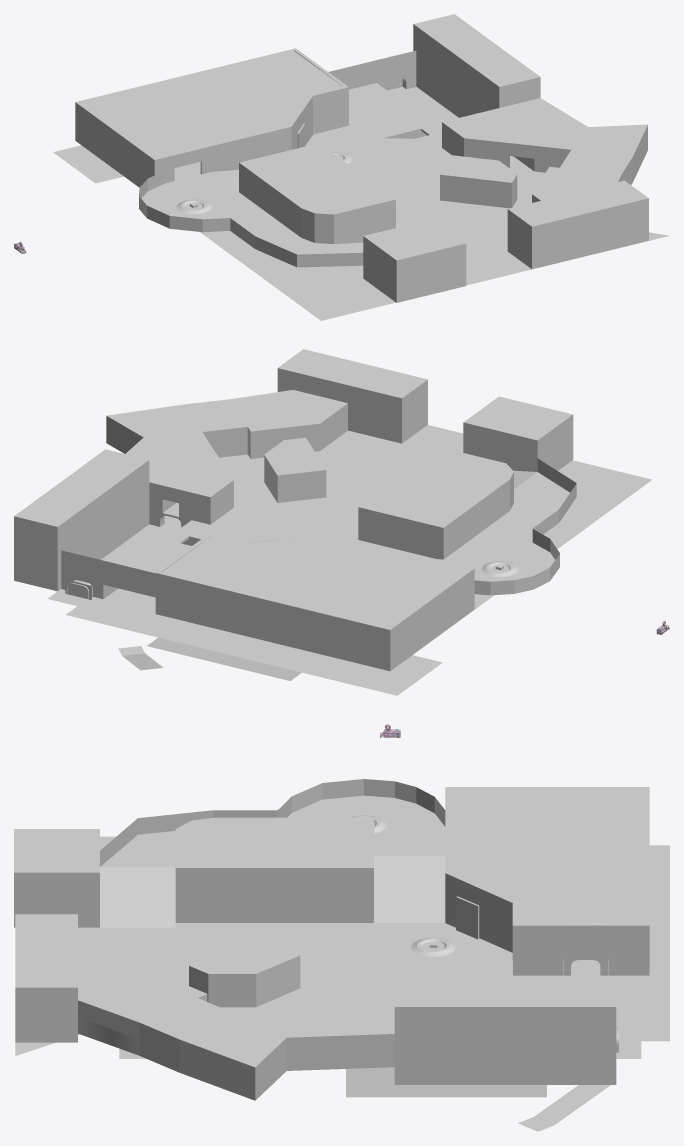
File: Ward_map_Self.FBX
3 renders of one model, top to bottom at view 1: azimuth 30°, elevation 25°; view 2: azimuth 150°, elevation 25°; view 3: azimuth 270°, elevation 25°, orthographic. The views are drawn at different scales.
Visible parts, largest first — view 1: Plane010, Box007, Box014, Plane020, Box006, Plane011, Box012, Box016, Box015, Box009, Plane013, Plane003 (+2 smaller); view 2: Box007, Plane010, Plane020, Box014, Box012, Box006, Plane013, Plane011, Box016, Box009, Box015, Plane002 (+4 smaller); view 3: Box007, Plane020, Box012, Plane011, Box006, Plane010, Box014, Plane013, Box016, Plane001, Box015, Box009 (+3 smaller).
Part boxes in pixels (x1,y1,x2,y2): Plane010: (200, 60, 669, 320); Box007: (440, 98, 647, 208); Box014: (363, 180, 648, 302); Plane020: (80, 50, 342, 158); Box006: (239, 143, 395, 244); Plane011: (139, 169, 363, 267); Box012: (413, 14, 540, 117); Box016: (75, 48, 348, 172); Box015: (75, 100, 348, 183); Box009: (75, 113, 348, 187); Plane013: (53, 145, 123, 183); Plane003: (376, 50, 416, 89); Box007: (106, 390, 347, 524); Plane010: (103, 425, 651, 609); Plane020: (162, 534, 470, 627); Box014: (277, 349, 573, 471); Box012: (14, 449, 149, 591); Box006: (358, 447, 513, 559); Plane013: (66, 588, 442, 695); Plane011: (437, 458, 576, 595); Box016: (155, 531, 474, 643); Box009: (155, 596, 474, 671); Box015: (155, 582, 474, 657); Plane002: (48, 515, 181, 609); Box007: (78, 937, 394, 1100); Plane020: (448, 788, 644, 922); Box012: (394, 981, 616, 1084); Plane011: (100, 779, 445, 927); Box006: (175, 817, 373, 922); Plane010: (15, 836, 608, 1055); Box014: (14, 829, 99, 1042); Plane013: (563, 845, 669, 1041); Box016: (445, 787, 649, 942); Plane001: (346, 1067, 546, 1097); Box015: (445, 890, 649, 958); Box009: (445, 906, 649, 975).
Bounding box in the file's own units: 13780 × 2959 × 10503.
